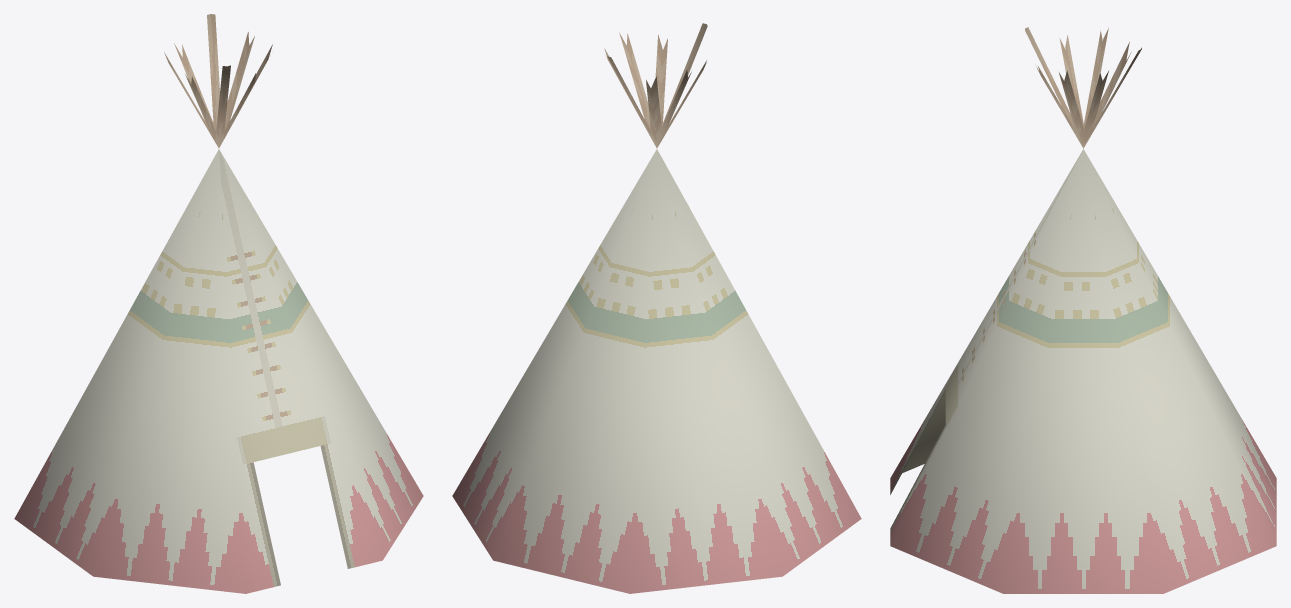
Rendered from 0152_Teepee.glb.
3 views of the same model, side by side, from view 1: azimuth 30°, elevation 25°; view 2: azimuth 150°, elevation 25°; view 3: azimuth 270°, elevation 25° (orthographic).
Visible parts, largest first — view 1: part_0; view 2: part_0; view 3: part_0.
Boxes of the visible parts, box(x1,y1,x2,y2) form: part_0: box(14, 14, 423, 593); part_0: box(452, 23, 861, 593); part_0: box(890, 27, 1276, 593).
Bounding box in the file's own units: 2.66 × 3.6 × 2.66.
1 material, 1 textured.
